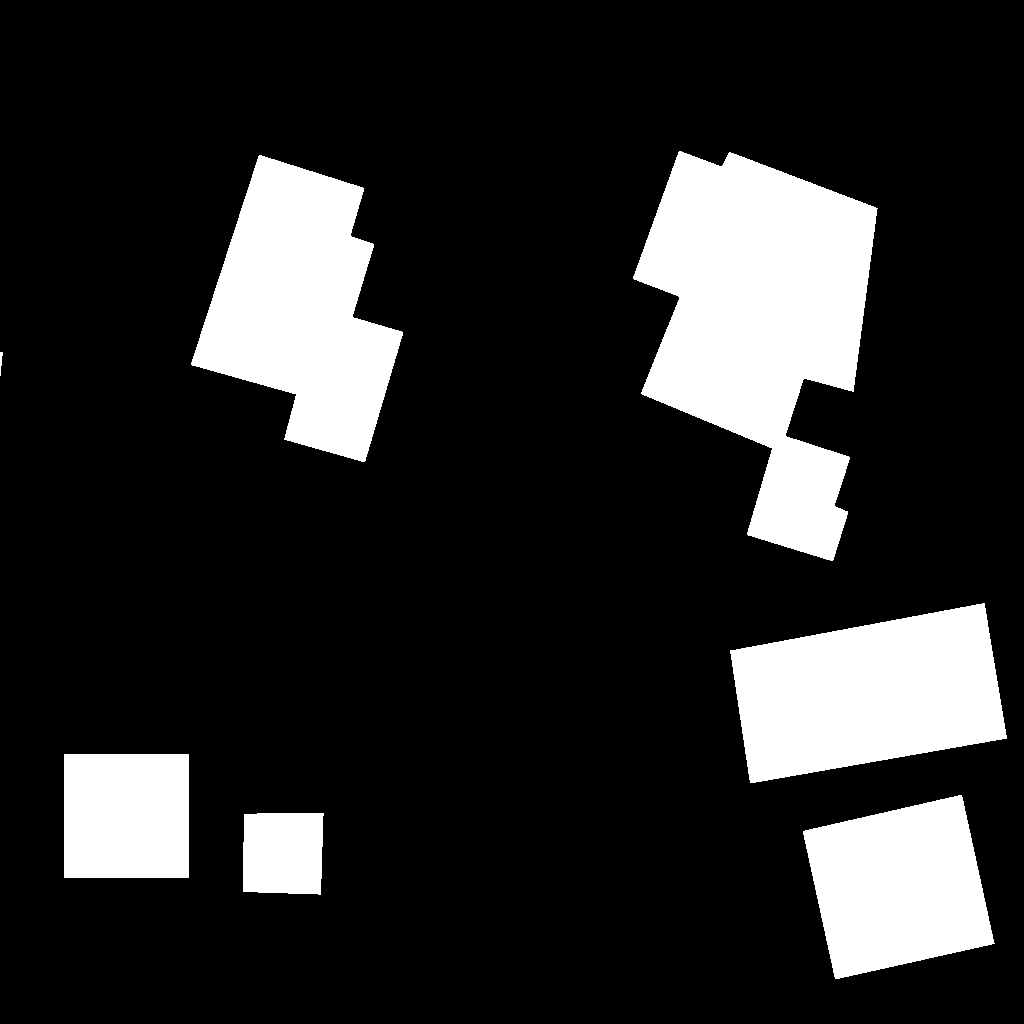building: (633, 151, 878, 562), (191, 155, 404, 463), (730, 603, 1008, 784), (803, 795, 995, 980), (64, 754, 190, 878), (243, 813, 324, 895), (0, 352, 4, 381)
